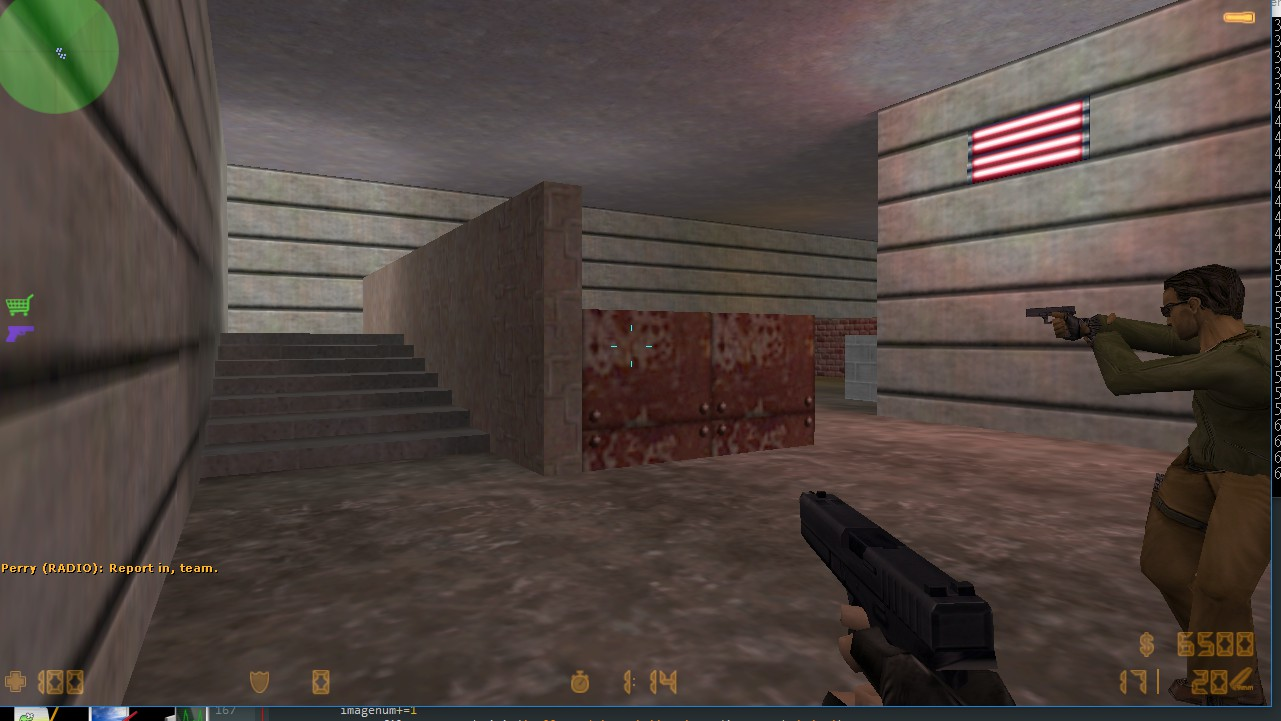person: (1093, 256, 1271, 694)
